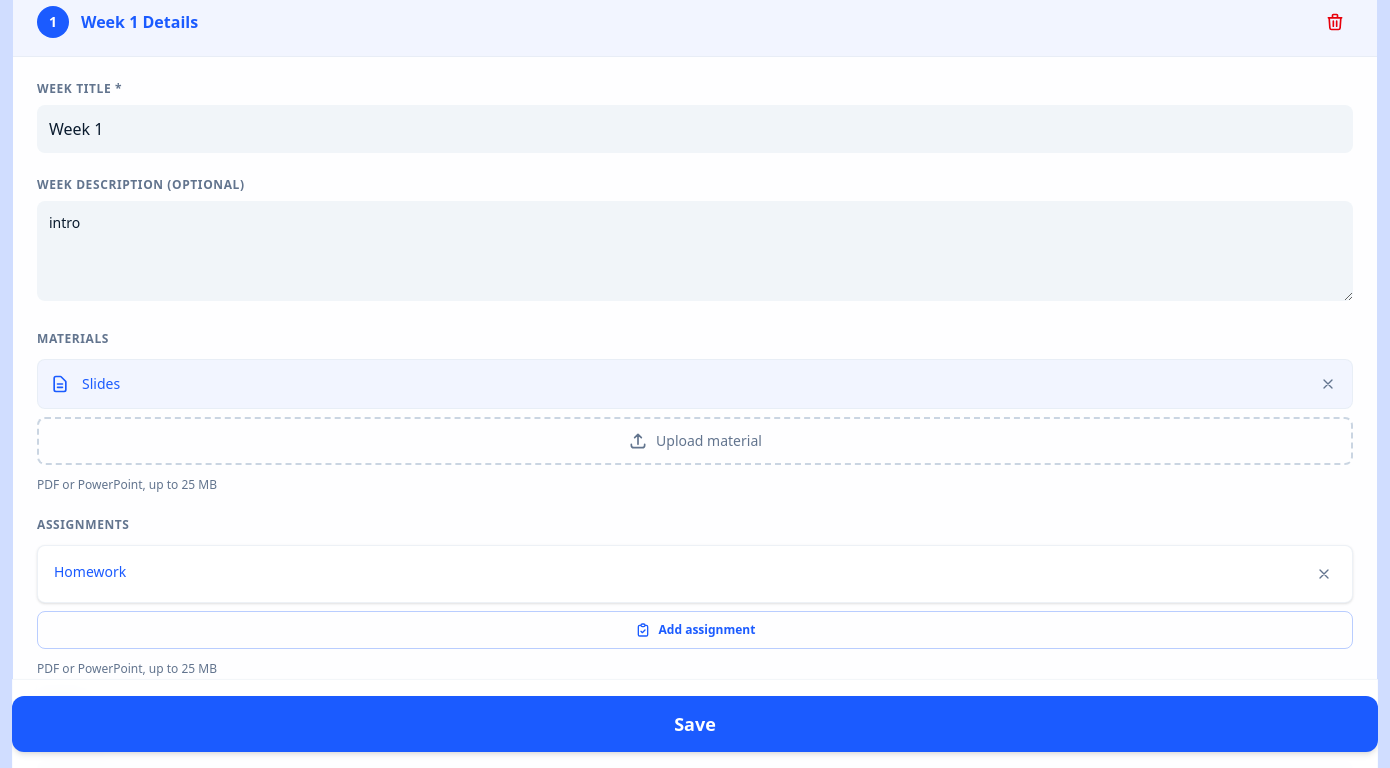
Test: WaveBuilder — edit (seeded) › deleting an existing material removes it via the server immediately
(page scrolled)
Click the button named "Remove material": {"x": 1328, "y": 384} [1316,372,1340,396]
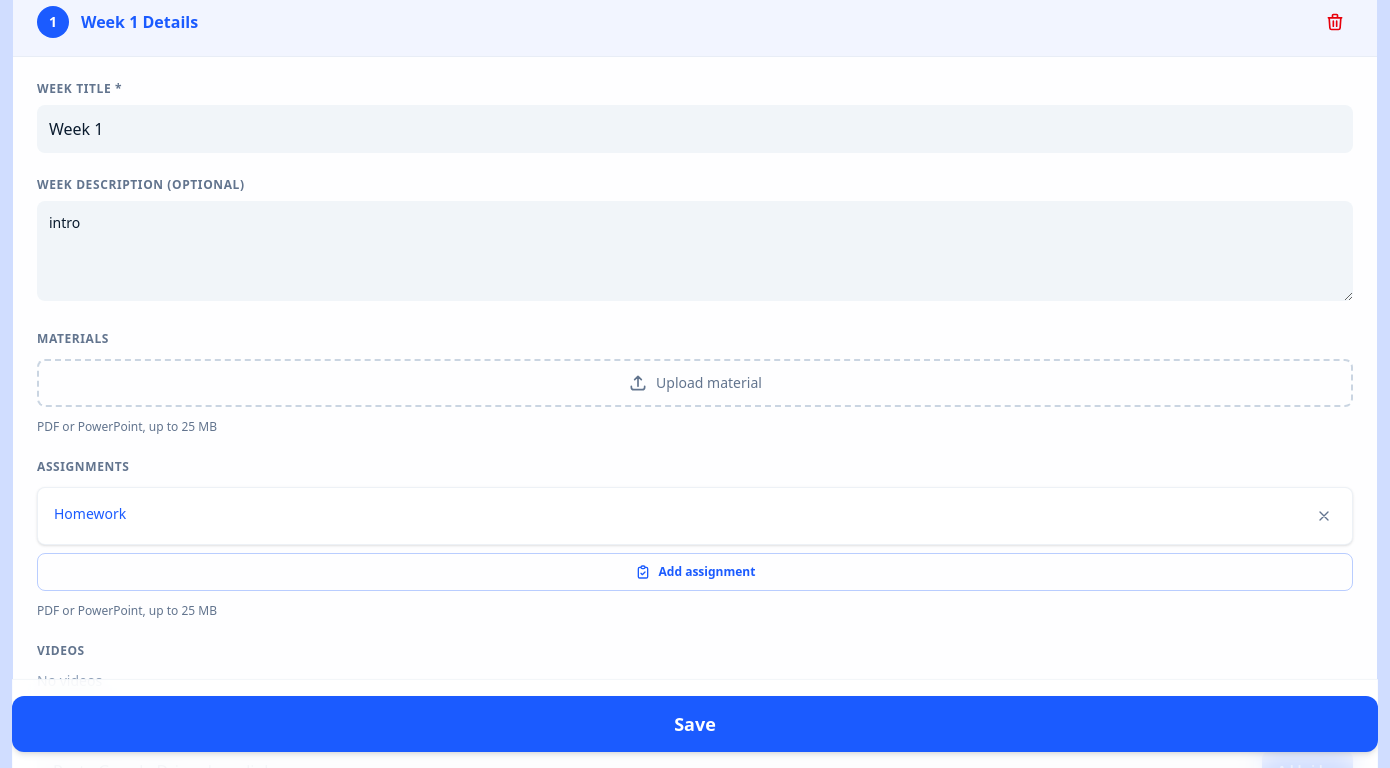
Now the link "Slides" is gone
